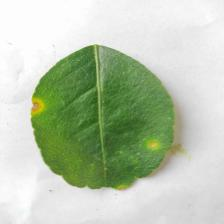greening: (16, 89, 174, 170)
